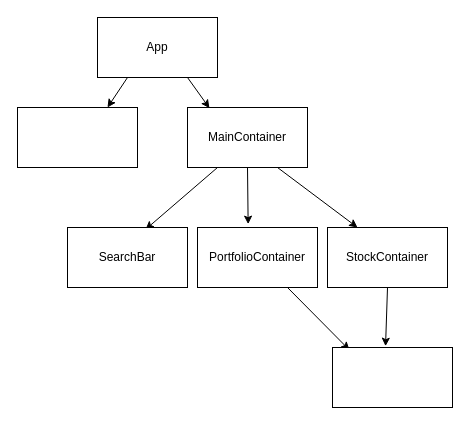
This 470x425 diagram has some shape labels left out. The shapes that lost their labels are listed below. From the top down, each one's box as (x1, y1, x2, y2) in pixels, then its label:
(16, 106, 138, 168): Header
(332, 346, 452, 408): Stock
